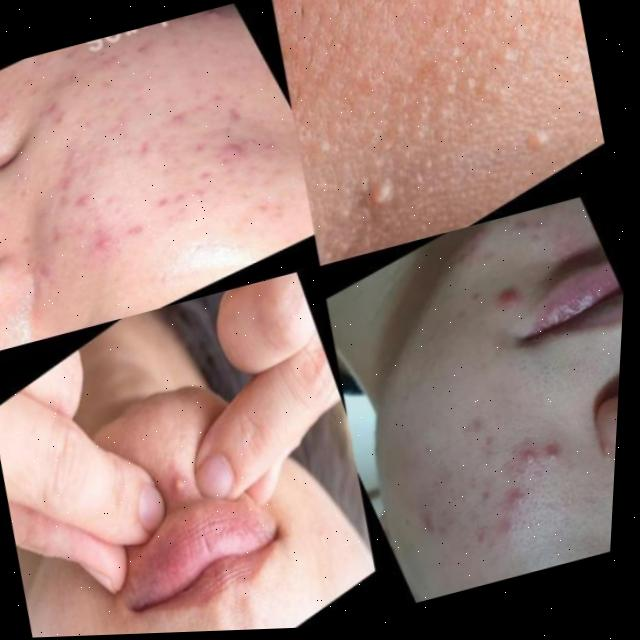Acne: (45, 55, 238, 256), (350, 0, 556, 169), (462, 410, 565, 528), (471, 205, 575, 303), (166, 473, 190, 491)
